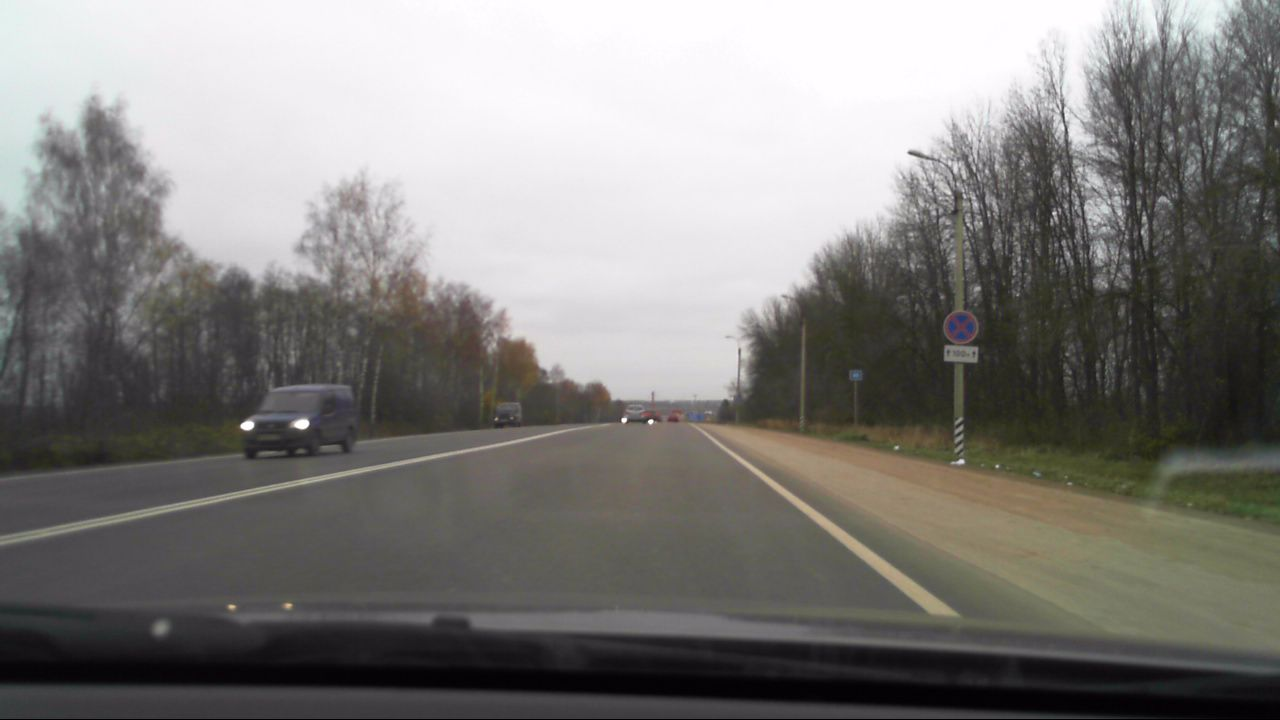No Parking: (943, 308, 981, 343)
